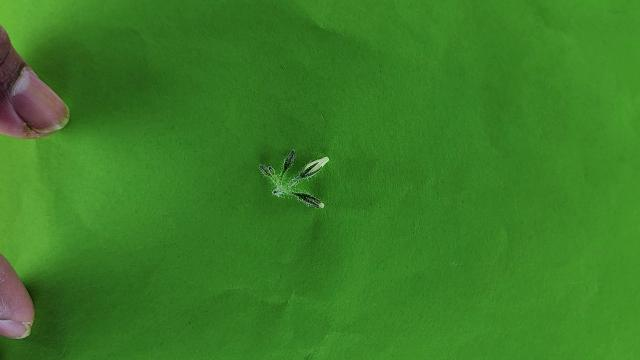Flower Bud: (298, 156, 329, 179), (293, 192, 325, 209), (282, 149, 296, 175), (259, 164, 275, 178)
